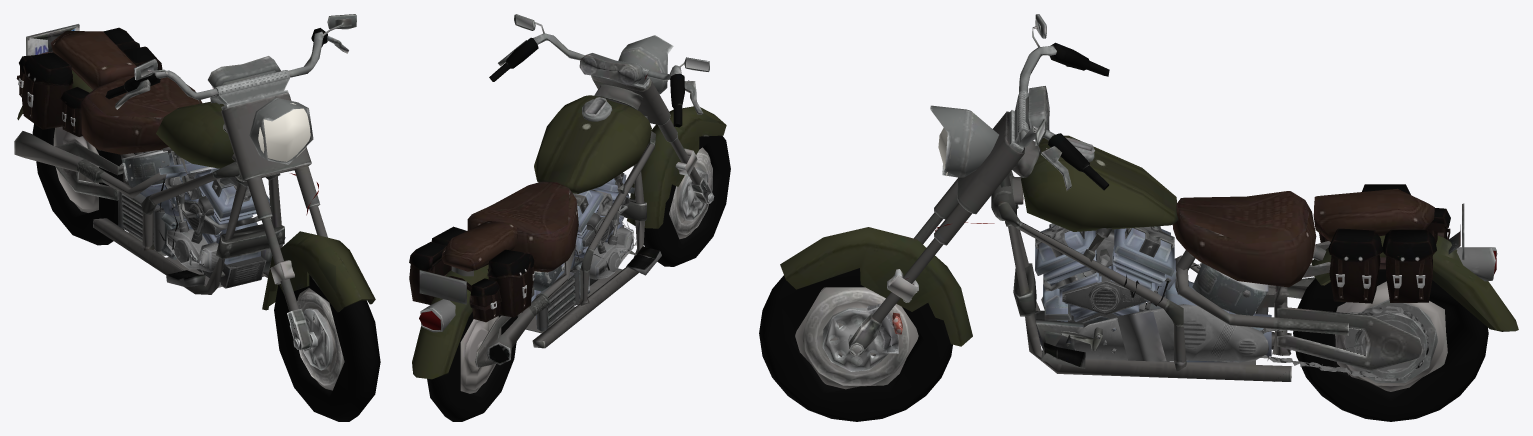
File: bike-fatboy.optimized.glb
The picture shows the model from 3 angles, left to right: view 1: azimuth 30°, elevation 25°; view 2: azimuth 150°, elevation 25°; view 3: azimuth 270°, elevation 25°; orthographic projection. The views are drawn at different scales.
Parts seen in each view (by area): view 1: steering_upper_mesh, chassis_body, saddlebag_left_body, front_wheel_mesh, lamp_headlight; view 2: steering_upper_mesh, chassis_body, saddlebag_left_body, front_wheel_mesh; view 3: steering_upper_mesh, chassis_body, front_wheel_mesh, saddlebag_left_body.
Part boxes in pixels (box(x1,y1,x2,y2)): steering_upper_mesh: box(14, 14, 380, 421); chassis_body: box(81, 75, 285, 288); saddlebag_left_body: box(16, 27, 162, 136); front_wheel_mesh: box(53, 126, 344, 390); lamp_headlight: box(258, 103, 311, 161); steering_upper_mesh: box(412, 14, 730, 421); chassis_body: box(467, 172, 636, 331); saddlebag_left_body: box(409, 226, 534, 322); front_wheel_mesh: box(460, 147, 714, 393); steering_upper_mesh: box(759, 14, 1518, 421); chassis_body: box(1034, 191, 1347, 362); front_wheel_mesh: box(795, 281, 1447, 391); saddlebag_left_body: box(1319, 184, 1450, 303).
Size of the model in its own units: 0.9481 by 1.22 by 2.41.
8 materials, 7 textured.
